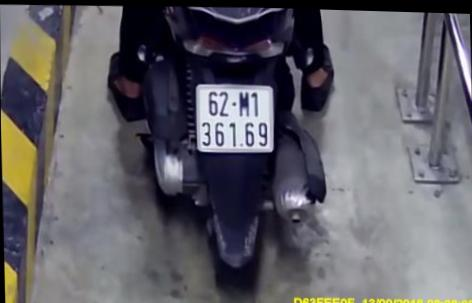LP: (196, 80, 275, 152)
